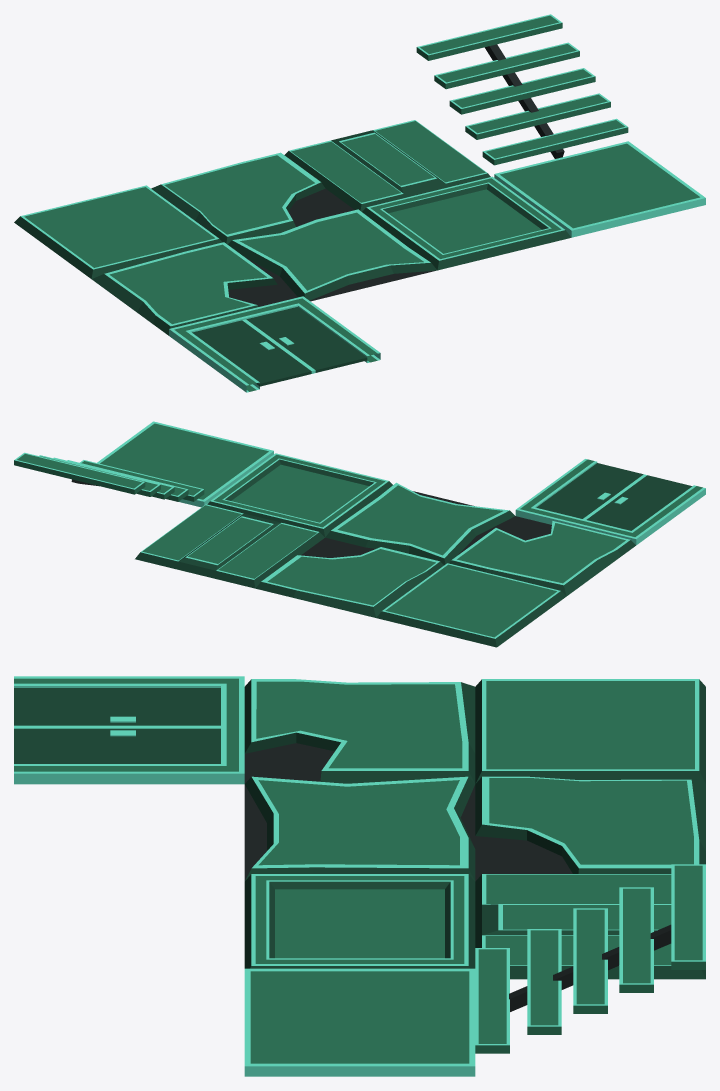
Rendered from Tiles1.fbx.
3 renders of one model, top to bottom at view 1: azimuth 30°, elevation 25°; view 2: azimuth 150°, elevation 25°; view 3: azimuth 270°, elevation 25°, orthographic. The views are drawn at different scales.
Parts seen in each view (by area): view 1: C1S, C1T1.006, C1T1.007, C1T1.003, C1T1.001, C1T1.004, C1T1.002, C1T1.005, C1T1; view 2: C1T1.007, C1T1.004, C1T1.002, C1T1.005, C1T1.003, C1T1, C1T1.001, C1T1.006, C1S; view 3: C1T1.006, C1T1.007, C1T1.004, C1T1, C1T1.003, C1T1.001, C1T1.005, C1S, C1T1.002.
Part boxes in pixels (x1=…): C1S: x1=416, y1=14, x2=628, y2=165; C1T1.006: x1=494, y1=141, x2=705, y2=237; C1T1.007: x1=169, y1=296, x2=380, y2=392; C1T1.003: x1=362, y1=176, x2=571, y2=270; C1T1.001: x1=227, y1=209, x2=437, y2=301; C1T1.004: x1=14, y1=185, x2=222, y2=278; C1T1.002: x1=284, y1=120, x2=490, y2=211; C1T1.005: x1=151, y1=152, x2=354, y2=244; C1T1: x1=91, y1=242, x2=295, y2=335; C1T1.007: x1=515, y1=459, x2=705, y2=545; C1T1.004: x1=376, y1=563, x2=566, y2=647; C1T1.002: x1=135, y1=504, x2=324, y2=588; C1T1.005: x1=256, y1=537, x2=443, y2=617; C1T1.003: x1=207, y1=453, x2=392, y2=537; C1T1: x1=449, y1=516, x2=635, y2=596; C1T1.001: x1=325, y1=482, x2=514, y2=565; C1T1.006: x1=97, y1=421, x2=273, y2=507; C1S: x1=14, y1=452, x2=204, y2=501; C1T1.006: x1=244, y1=968, x2=475, y2=1076; C1T1.007: x1=14, y1=676, x2=244, y2=784; C1T1.004: x1=475, y1=679, x2=705, y2=783; C1T1: x1=244, y1=679, x2=475, y2=783; C1T1.003: x1=244, y1=874, x2=475, y2=968; C1T1.001: x1=244, y1=776, x2=475, y2=881; C1T1.005: x1=475, y1=776, x2=705, y2=881; C1S: x1=475, y1=864, x2=705, y2=1053; C1T1.002: x1=475, y1=874, x2=705, y2=979.
Size of the model in its own units: 8 by 1.1 by 6.
1 material, 1 textured.
